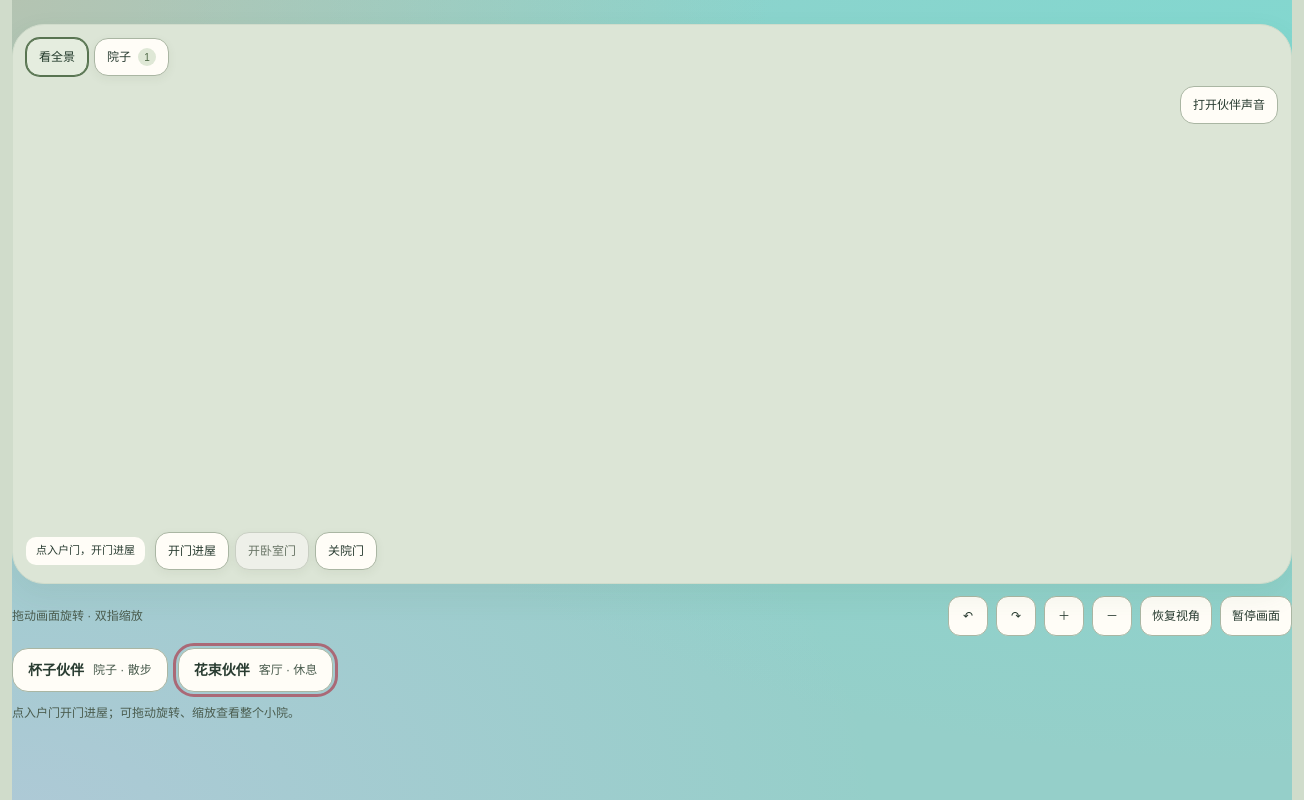
Test: one continuous home with local camera focus › keeps friends read-only and supports keyboard focus, Escape and explicit close without commands
Click the button with aria-label "查看花束伙伴的生活近况" at (256, 670), box [178, 648, 333, 692]
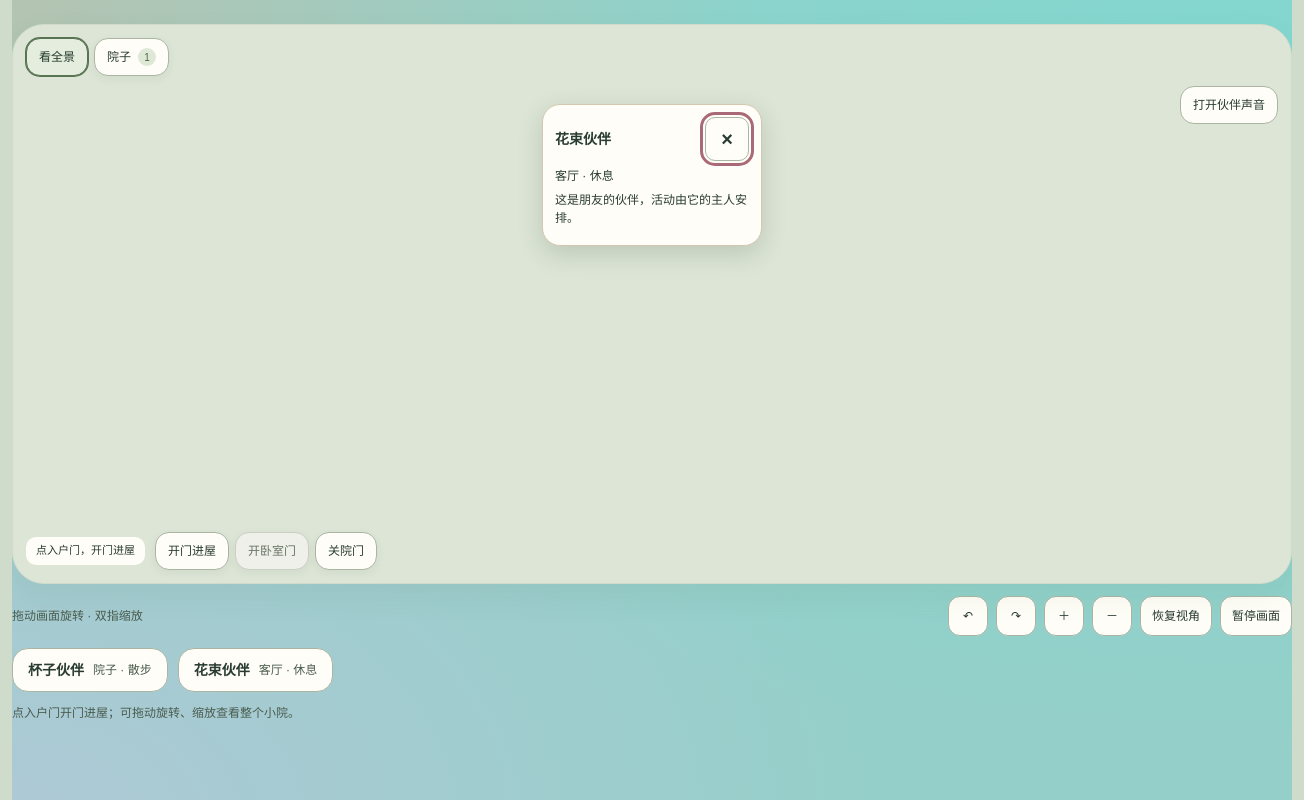
Now the text "这是朋友的伙伴，活动由它的主人安排。" is shown, box [555, 191, 749, 227]
Press Escape
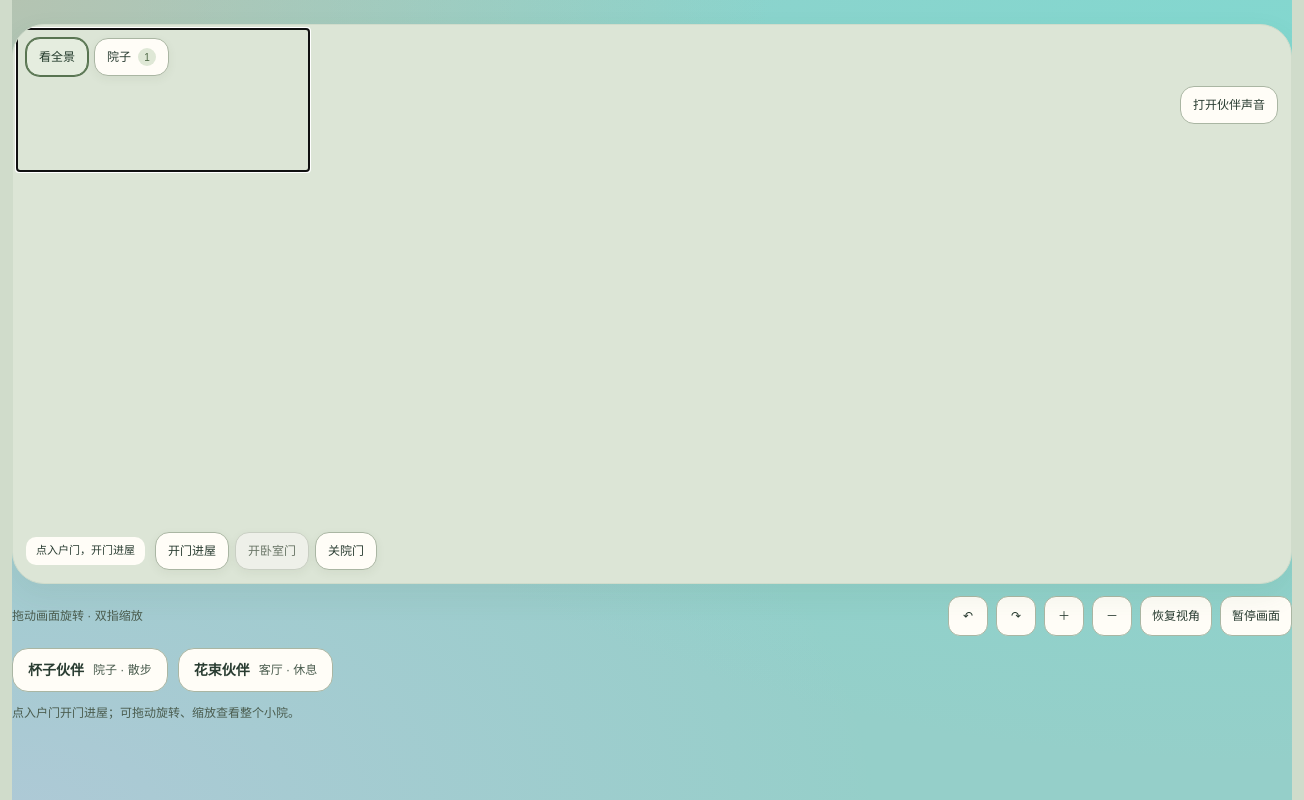
Now the element "花束伙伴的活动" is gone
Click the button with aria-label "查看杯子伙伴的生活近况" at (90, 670), box [12, 648, 168, 692]
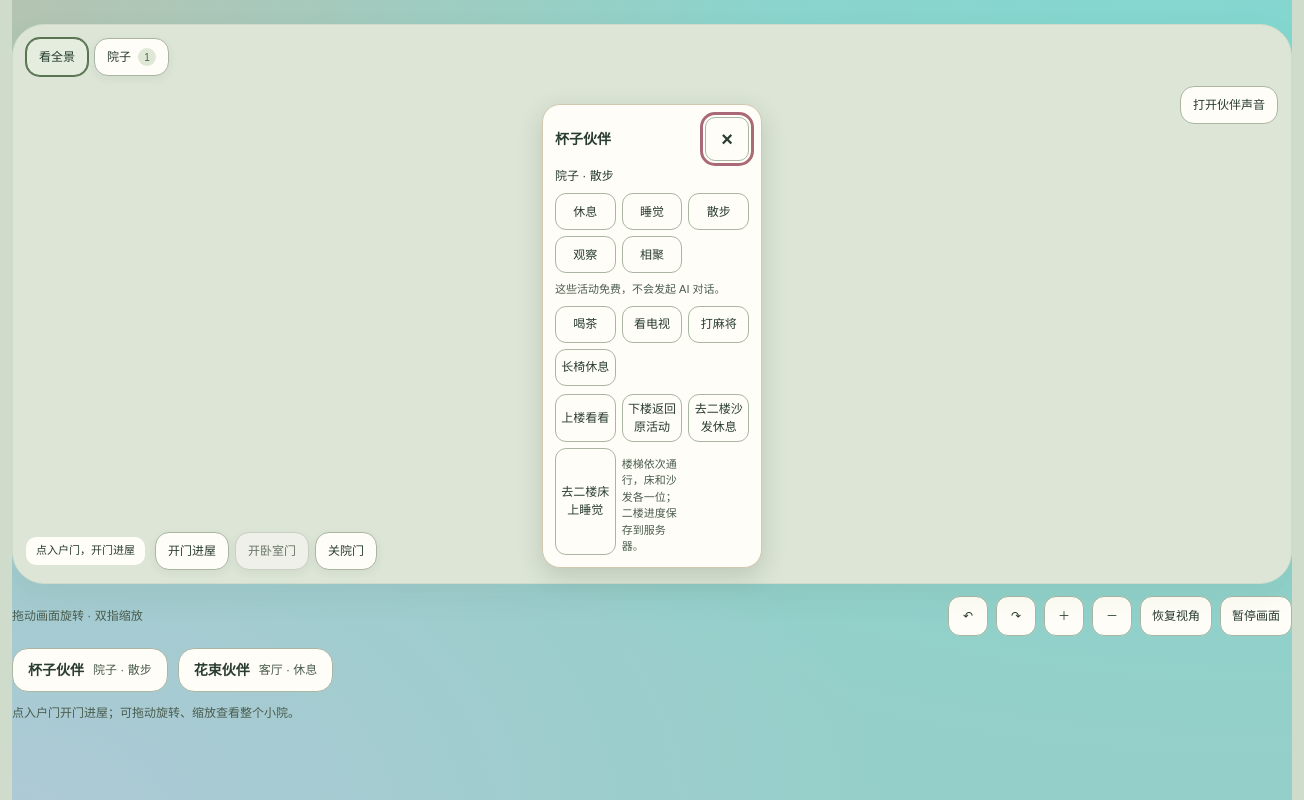
Click the button named "关闭活动菜单" at (727, 139), box [705, 117, 749, 161]
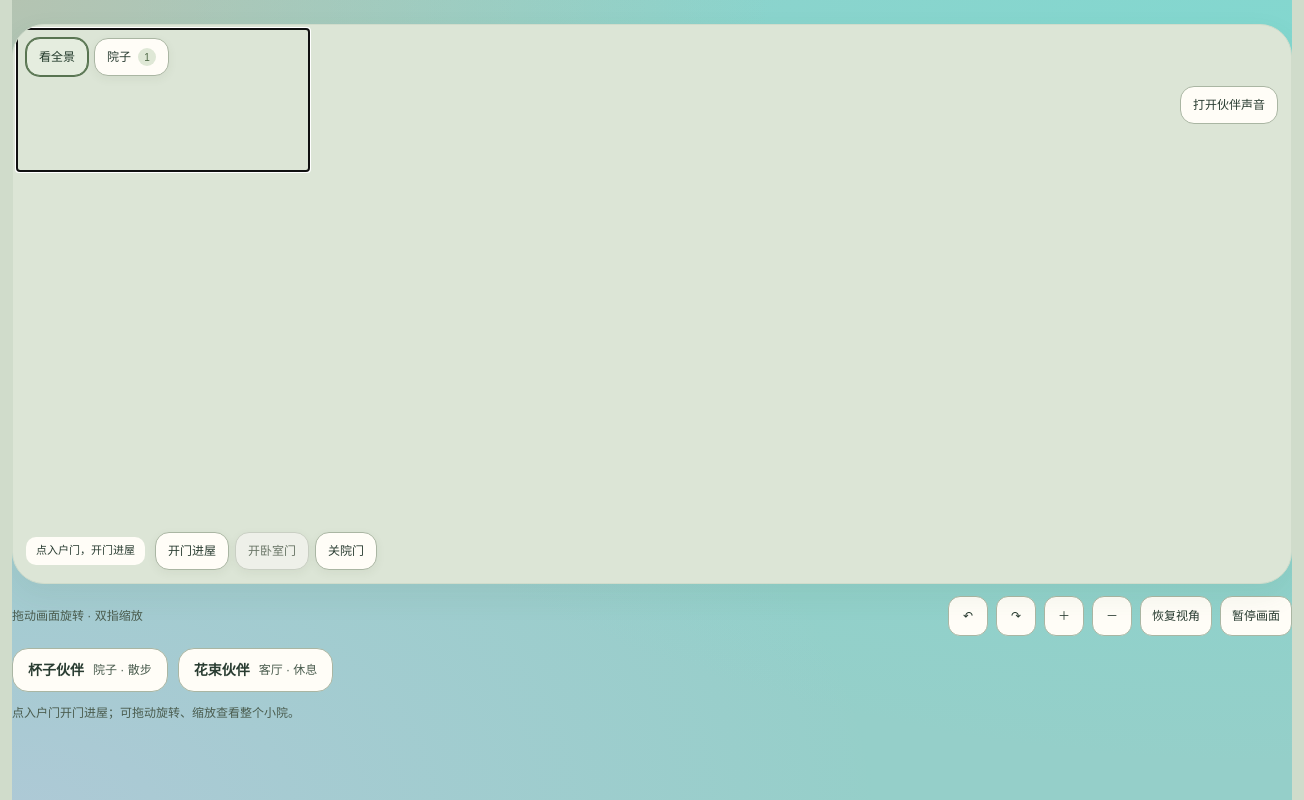
Now the element "杯子伙伴的活动" is gone
